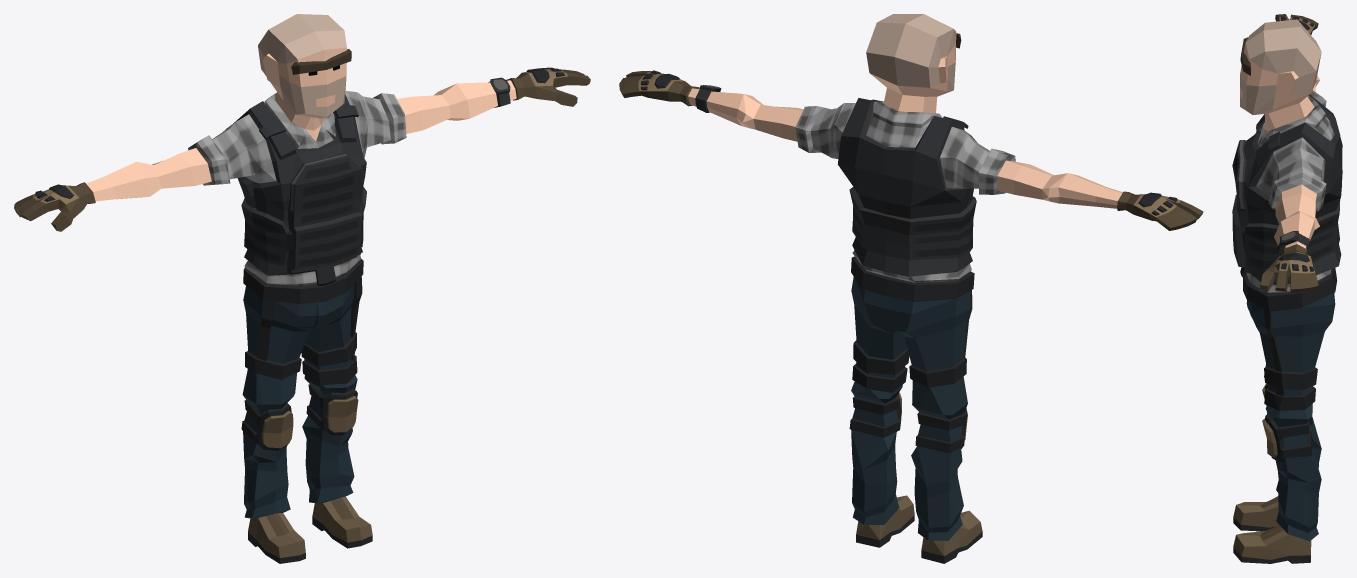
Rendered from SM_Chr_Contractor_Male_01.fbx.
3 views of the same model, side by side, from view 1: azimuth 30°, elevation 25°; view 2: azimuth 150°, elevation 25°; view 3: azimuth 270°, elevation 25° (orthographic). The views are drawn at different scales.
Parts seen in each view (by area): view 1: SM_Chr_Contractor_Male_01; view 2: SM_Chr_Contractor_Male_01; view 3: SM_Chr_Contractor_Male_01.
Boxes of the visible parts, <box> form: SM_Chr_Contractor_Male_01: <box>14,14,590,563</box>; SM_Chr_Contractor_Male_01: <box>619,14,1203,563</box>; SM_Chr_Contractor_Male_01: <box>1232,14,1342,563</box>.
Size of the model in its own units: 205 by 179 by 34.72.
